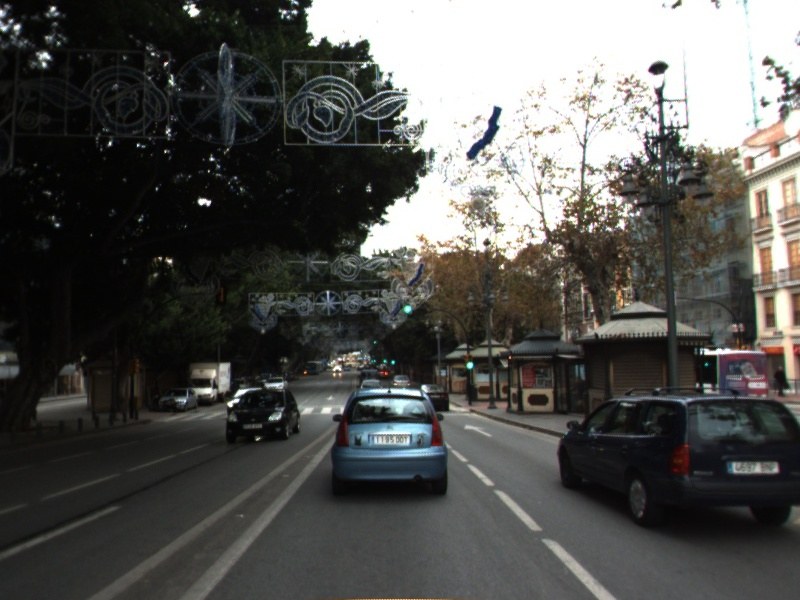STRAIGHT: (462, 422, 494, 439)
